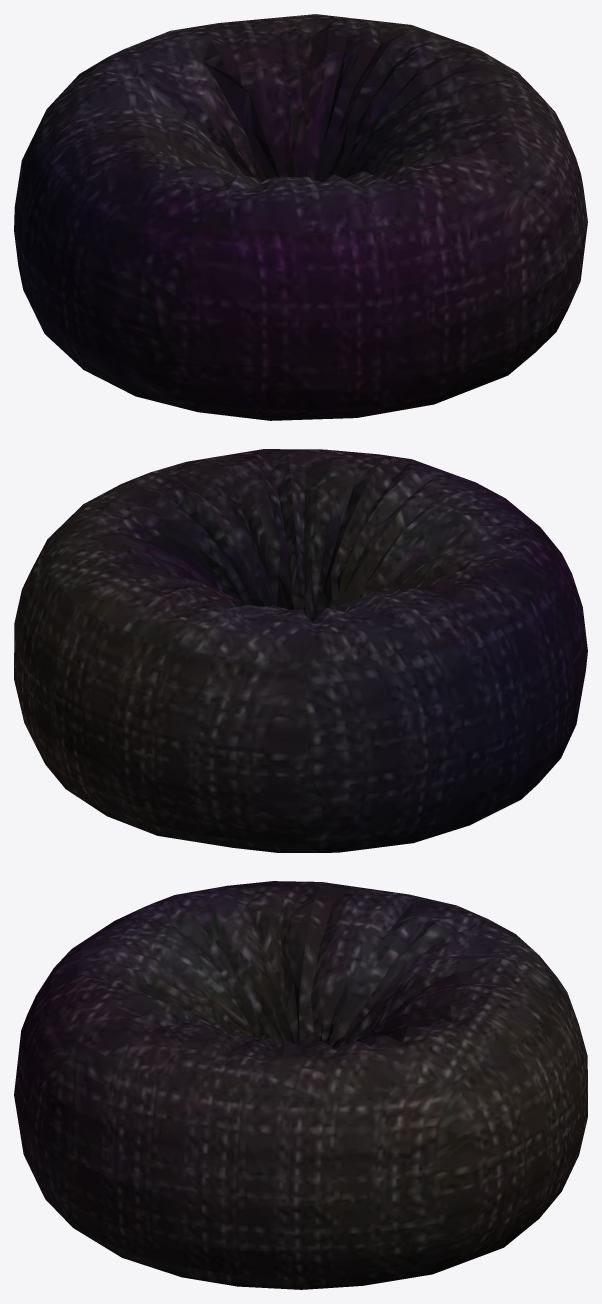
Rendered from beanbag1Night-transformed.glb.
The picture shows the model from 3 angles, top to bottom: view 1: azimuth 30°, elevation 25°; view 2: azimuth 150°, elevation 25°; view 3: azimuth 270°, elevation 25°; orthographic projection.
Parts seen in each view (by area): view 1: beanbag1; view 2: beanbag1; view 3: beanbag1.
Boxes of the visible parts, x1=… form: beanbag1: x1=14, y1=14, x2=587, y2=420; beanbag1: x1=14, y1=449, x2=587, y2=852; beanbag1: x1=14, y1=881, x2=587, y2=1289.
Bounding box in the file's own units: 1.22 × 0.513 × 1.21.
Materials: 1 (1 with a texture image).
